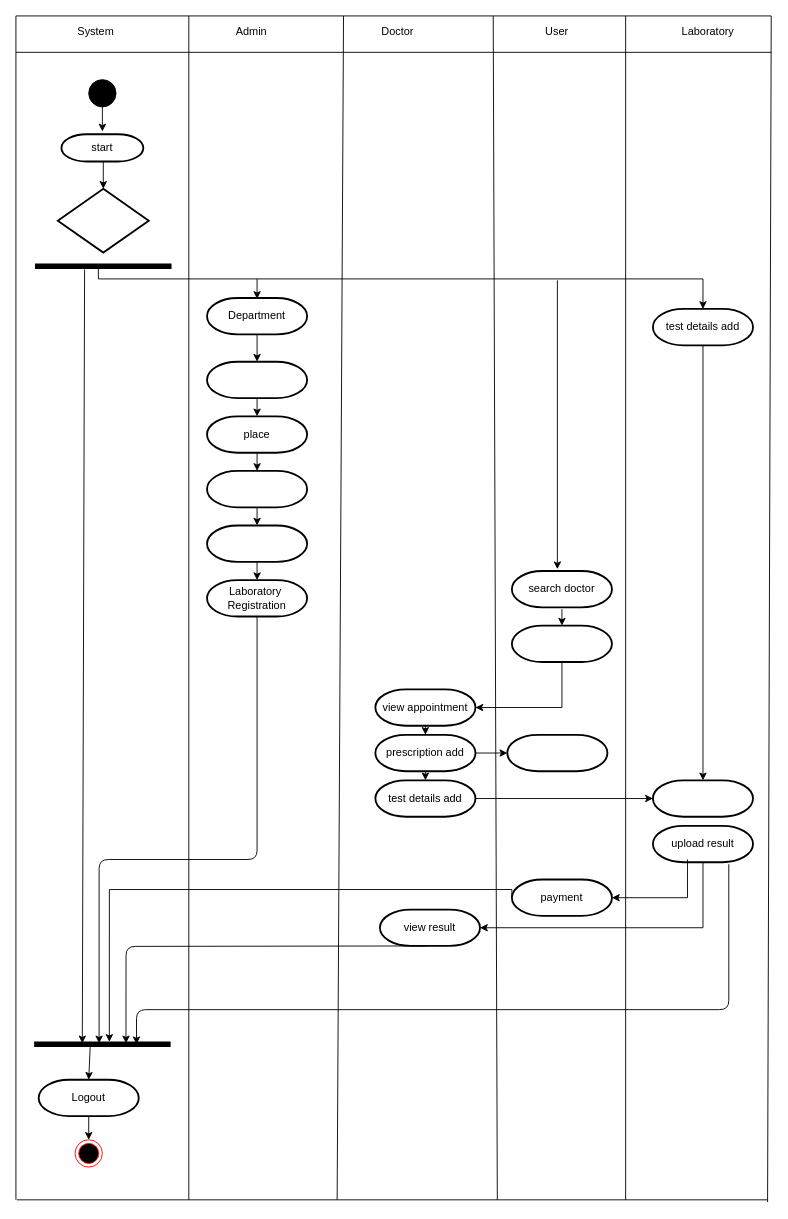
This 788x1219 diagram has some shape labels left out. The shapes that lost their labels are listed below. From the top down, each one's centre as x and y in pixels, then its label:
the point at 102,220: Login
the point at 257,379: District
the point at 257,489: test type
the point at 257,543: Doctor Registration
the point at 561,643: booking appointment
the point at 557,752: view prescription
the point at 702,798: view test details
